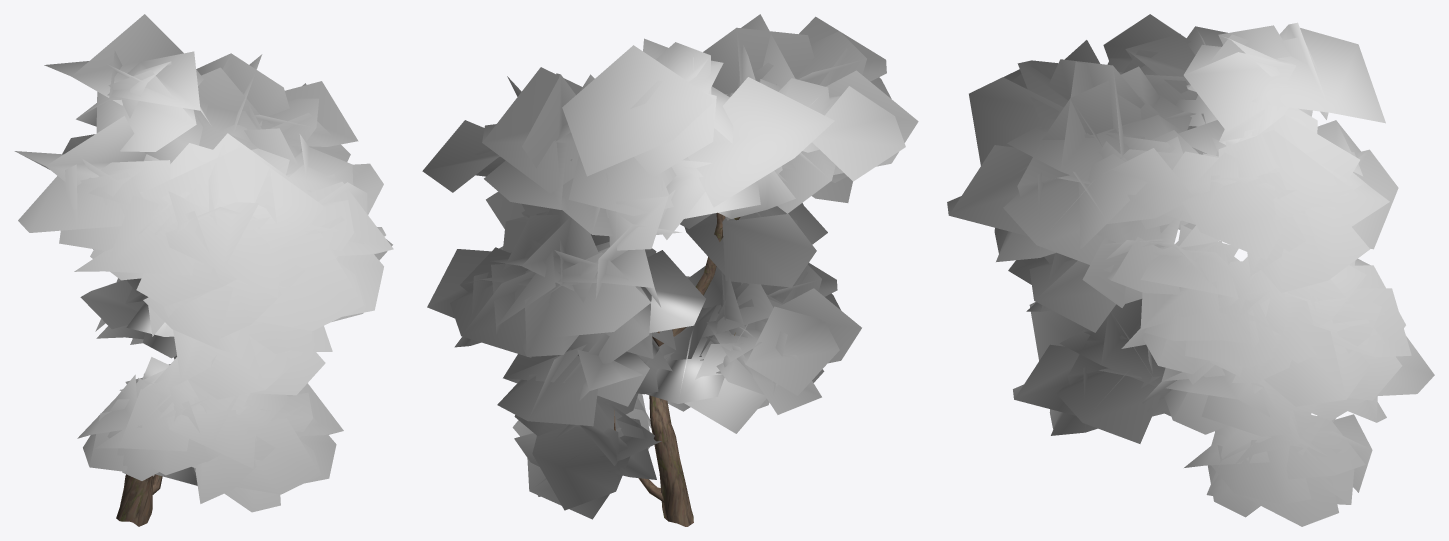
File: SM_EastLands_Osmanthus_04_Trunk_A.fbx
3 renders of one model, left to right at view 1: azimuth 30°, elevation 25°; view 2: azimuth 150°, elevation 25°; view 3: azimuth 270°, elevation 25°, orthographic.
Parts seen in each view (by area): view 1: SM_EastLands_Osmanthus_04_Trunk_A_LOD0; view 2: SM_EastLands_Osmanthus_04_Trunk_A_LOD0; view 3: SM_EastLands_Osmanthus_04_Trunk_A_LOD0.
Part boxes in pixels (box(x1,y1,x2,y2)): SM_EastLands_Osmanthus_04_Trunk_A_LOD0: box(14, 14, 393, 526); SM_EastLands_Osmanthus_04_Trunk_A_LOD0: box(422, 14, 918, 526); SM_EastLands_Osmanthus_04_Trunk_A_LOD0: box(947, 14, 1434, 526).
Bounding box in the file's own units: 786 × 931 × 854.
